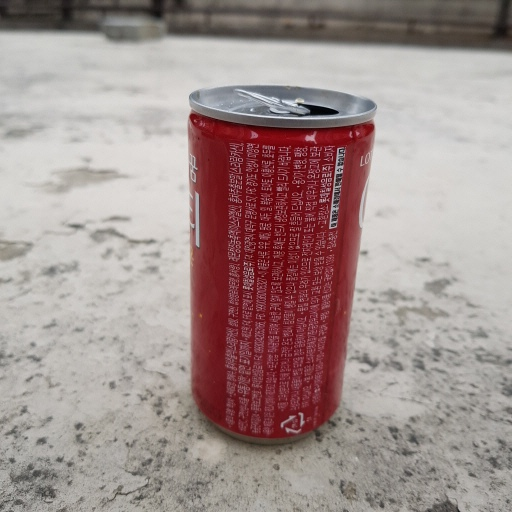Metal_0: (180, 78, 377, 445)
